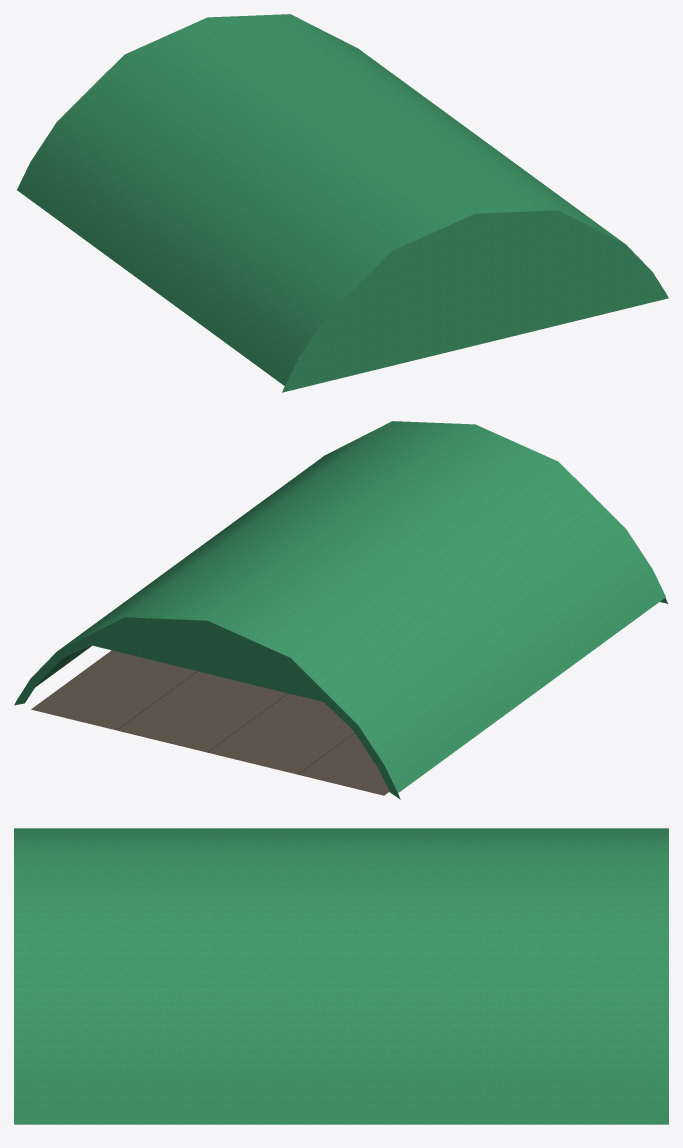
File: hangar-arched-fabric-aqua-25x30-cbj_LOD02.gltf
3 renders of one model, top to bottom at view 1: azimuth 30°, elevation 25°; view 2: azimuth 150°, elevation 25°; view 3: azimuth 270°, elevation 25°, orthographic. The views are drawn at different scales.
Parts seen in each view (by area): view 1: hanger02; view 2: hanger02; view 3: hanger02.
Boxes of the visible parts, left/top/right/bottom form: hanger02: left=17, top=14, right=668, bottom=392; hanger02: left=14, top=421, right=667, bottom=799; hanger02: left=14, top=828, right=668, bottom=1124.
Size of the model in its own units: 25.01 by 8.15 by 30.
